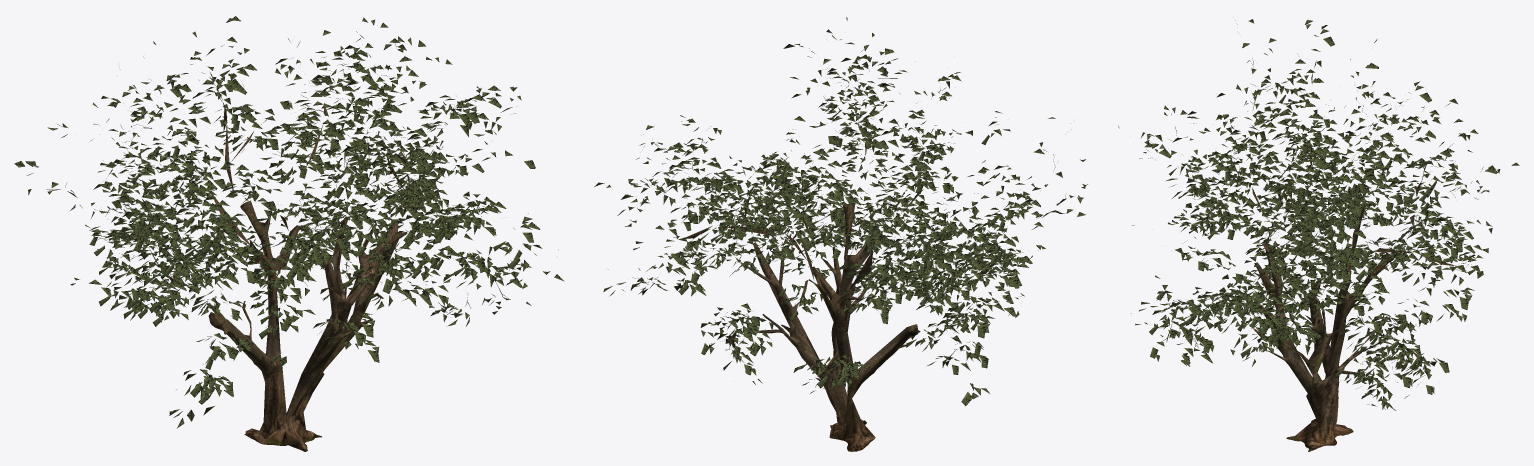
Rendered from jacaranda_low.glb.
3 renders of one model, left to right at view 1: azimuth 30°, elevation 25°; view 2: azimuth 150°, elevation 25°; view 3: azimuth 270°, elevation 25°, orthographic. The views are drawn at different scales.
Parts seen in each view (by area): view 1: jacaranda_tree_LOD0; view 2: jacaranda_tree_LOD0; view 3: jacaranda_tree_LOD0.
Boxes of the visible parts, <box> form: jacaranda_tree_LOD0: <box>14,16,564,451</box>; jacaranda_tree_LOD0: <box>594,17,1087,451</box>; jacaranda_tree_LOD0: <box>1118,19,1519,451</box>.
Size of the model in its own units: 23.1 by 18.94 by 18.09.
3 materials, 3 textured.
